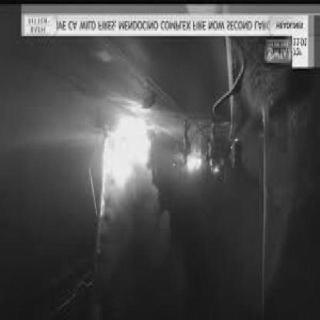Fire: (96, 100, 154, 194)
Smoke: (68, 185, 188, 319)
